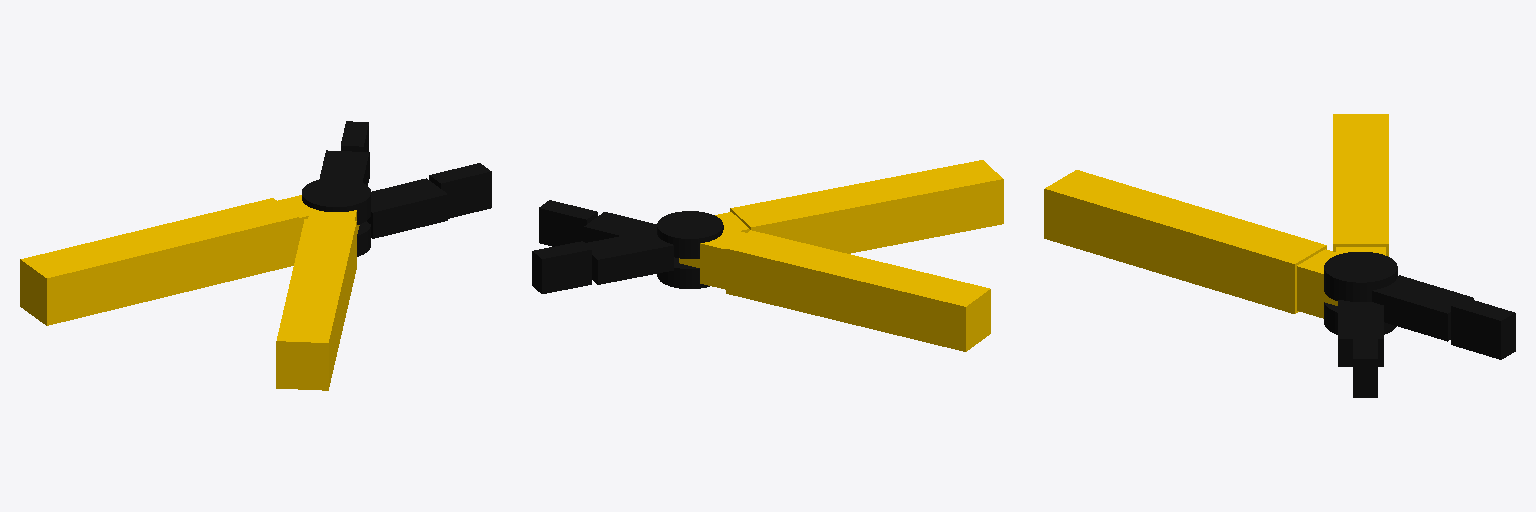
URDF robot description (detailed_plier):
<?xml version="1.0"?>
<robot name="detailed_plier">

  <!-- Materials -->
  <material name="yellow_plastic">
    <color rgba="1.0 0.8 0.0 1.0"/>
  </material>
  <material name="black_metal">
    <color rgba="0.1 0.1 0.1 1.0"/>
  </material>
  <material name="dark_metal">
    <color rgba="0.3 0.3 0.3 1.0"/>
  </material>
  <material name="polished_metal">
    <color rgba="0.7 0.7 0.7 1.0"/>
  </material>

  <!-- ##################### BASE LINK (STATIC ARM) ##################### -->
  <link name="base_link">
    <inertial>
      <origin xyz="-0.05 0 0" rpy="0 0 0"/> <!-- Approximate CoM for the whole arm -->
      <mass value="0.5"/> <!-- Increased mass for the base link -->
      <!-- Approximate inertia for a slim object -->
      <inertia ixx="0.0001" ixy="0" ixz="0" iyy="0.001" iyz="0" izz="0.001"/>
    </inertial>

    <!-- Visuals for Base Arm -->
    <!-- Handle Part 1 (Main Grip) -->
    <visual name="base_handle_grip">
      <origin xyz="-0.105 0 0" rpy="0 0 0"/>
      <geometry>
        <box size="0.15 0.027 0.027"/> <!-- Length, Width, Thickness -->
      </geometry>
      <material name="yellow_plastic"/>
    </visual>
    <!-- Handle Part 2 (Transition to Pivot) -->
    <visual name="base_handle_transition">
      <origin xyz="-0.0225 0 0" rpy="0 0 0"/>
      <geometry>
        <box size="0.045 0.024 0.024"/>
      </geometry>
      <material name="yellow_plastic"/>
    </visual>

    <!-- Pivot Section (Half Cylinder) -->
    <visual name="base_pivot_section">
      <origin xyz="0 0 -0.009" rpy="0 0 0"/> <!-- Rotated to make length along Z, offset Z -->
      <geometry>
        <cylinder radius="0.018" length="0.012"/> <!-- Radius, Thickness of this half -->
      </geometry>
      <material name="black_metal"/>
    </visual>

    <!-- Jaw Part 1 (Base of Jaw) -->
    <visual name="base_jaw_base">
      <origin xyz="0.0375 0 -0.003" rpy="0 0 0"/> <!-- Jaw part is below centerline -->
      <geometry>
        <box size="0.045 0.0225 0.015"/>
      </geometry>
      <material name="black_metal"/>
    </visual>
    <!-- Jaw Part 2 (Tip of Jaw - Gripping Surface) -->
    <visual name="base_jaw_tip">
      <origin xyz="0.075 0.00225 -0.003" rpy="0 0 0"/> <!-- Slightly tapered/offset for gripping visual -->
      <geometry>
        <box size="0.03 0.012 0.021"/>
      </geometry>
      <material name="black_metal"/>
    </visual>

    <!-- Collision for Base Arm (Simplified) -->
    <collision name="base_handle_collision">
      <origin xyz="-0.105 0 0" rpy="0 0 0"/>
      <geometry>
        <box size="0.15 0.027 0.027"/>
      </geometry>
    </collision>
    <collision name="base_handle_transition_collision">
      <origin xyz="-0.0225 0 0" rpy="0 0 0"/>
      <geometry>
        <box size="0.045 0.024 0.024"/>
      </geometry>
    </collision>
    <collision name="base_jaw_collision">
      <origin xyz="0.05625 0 -0.003" rpy="0 0 0"/>
      <geometry>
        <box size="0.0825 0.0225 0.021"/>
      </geometry>
    </collision>
  </link>

  <!-- ##################### MOVABLE ARM LINK ##################### -->
  <link name="movable_arm_link">
    <inertial>
      <origin xyz="-0.075 0 0" rpy="0 0 0"/>
      <mass value="0.5"/>
      <inertia ixx="0.0001" ixy="0" ixz="0" iyy="0.001" iyz="0" izz="0.001"/>
    </inertial>

    <!-- Visuals for Movable Arm -->
    <!-- Handle Part 1 (Main Grip) -->
    <visual name="movable_handle_grip">
      <origin xyz="-0.105 0 0" rpy="0 0 0"/>
      <geometry>
        <box size="0.15 0.027 0.027"/>
      </geometry>
      <material name="yellow_plastic"/>
    </visual>
    <!-- Handle Part 2 (Transition to Pivot) -->
    <visual name="movable_handle_transition">
      <origin xyz="-0.0225 0 0" rpy="0 0 0"/>
      <geometry>
        <box size="0.045 0.024 0.024"/>
      </geometry>
      <material name="yellow_plastic"/>
    </visual>

    <!-- Pivot Section (Half Cylinder) -->
    <visual name="movable_pivot_section">
      <origin xyz="0 0 0.009" rpy="0 0 0"/> <!-- Rotated, offset Z opposite to base -->
      <geometry>
        <cylinder radius="0.018" length="0.012"/>
      </geometry>
      <material name="black_metal"/>
    </visual>

    <!-- Jaw Part 1 (Base of Jaw) -->
    <visual name="movable_jaw_base">
      <origin xyz="0.0375 0 0.003" rpy="0 0 0"/> <!-- Jaw part is above centerline -->
      <geometry>
        <box size="0.045 0.0225 0.015"/>
      </geometry>
      <material name="black_metal"/>
    </visual>
    <!-- Jaw Part 2 (Tip of Jaw - Gripping Surface) -->
    <visual name="movable_jaw_tip">
      <origin xyz="0.075 -0.00225 0.003" rpy="0 0 0"/> <!-- Slightly tapered/offset for gripping visual -->
      <geometry>
        <box size="0.03 0.012 0.021"/>
      </geometry>
      <material name="black_metal"/>
    </visual>

    <!-- Collision for Movable Arm (Simplified) -->
    <collision name="movable_handle_collision">
      <origin xyz="-0.105 0 0" rpy="0 0 0"/>
      <geometry>
        <box size="0.15 0.027 0.027"/>
      </geometry>
    </collision>
    <collision name="movable_handle_transition_collision">
      <origin xyz="-0.0225 0 0" rpy="0 0 0"/>
      <geometry>
        <box size="0.045 0.024 0.024"/>
      </geometry>
    </collision>
    <collision name="movable_jaw_collision">
      <origin xyz="0.05625 0 0.003" rpy="0 0 0"/>
      <geometry>
        <box size="0.0825 0.0225 0.021"/>
      </geometry>
    </collision>
  </link>

  <!-- ##################### JOINT DEFINITION ##################### -->
  <joint name="pivot_joint" type="revolute">
    <parent link="base_link"/>
    <child link="movable_arm_link"/>
    <!-- The origin of the joint is at the origin of the base_link (which is the pivot center) -->
    <!-- The child link's origin is also placed at this same point -->
    <origin xyz="0 0 0" rpy="0 0 0"/>
    <axis xyz="0 0 1"/> <!-- Rotation around the Z-axis -->
    <limit lower="0.4" upper="1.5" effort="100" velocity="1.0"/> <!-- Approx 40 degrees opening -->
    <dynamics damping="0.1" friction="0.05"/>
  </joint>

</robot>

--- Render facts (derived) ---
3 views of the same robot in one strip: view 1: azimuth 30°, elevation 25°; view 2: azimuth 150°, elevation 25°; view 3: azimuth 270°, elevation 25° (orthographic).
Model detailed_plier with 2 links and 1 joints (1 revolute), rooted at base_link, posed joints at zero except 1 at the middle of their limits (pivot_joint = 0.95).
Links seen in each view (by area): view 1: base_link, movable_arm_link; view 2: movable_arm_link, base_link; view 3: movable_arm_link, base_link.
Link boxes in pixels (left/top/right/bottom): base_link: left=20, top=163, right=491, bottom=325; movable_arm_link: left=276, top=121, right=370, bottom=390; movable_arm_link: left=532, top=160, right=1003, bottom=293; base_link: left=539, top=200, right=990, bottom=351; movable_arm_link: left=1044, top=170, right=1515, bottom=359; base_link: left=1324, top=114, right=1396, bottom=397.
Size in the robot's own frame: 0.27 by 0.2297 by 0.03 metres.
Geometry: primitives only (box / cylinder / sphere), no mesh files.
